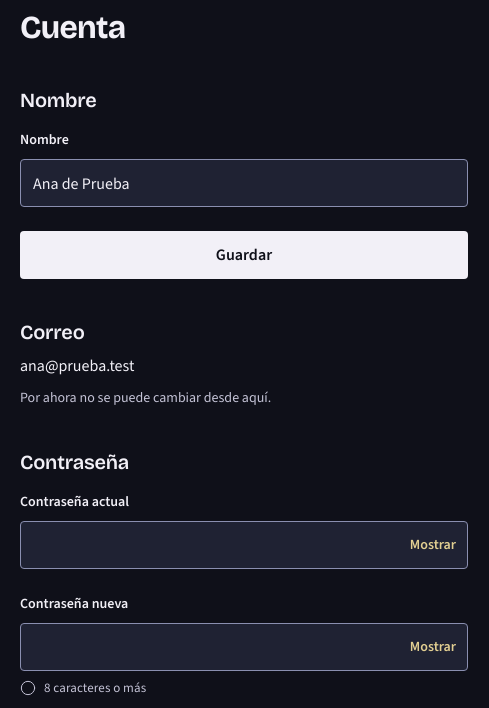
Test: la pantalla de la cuenta (PA-25) › no se supo: lo dice en una alerta y conserva lo escrito
Replace the text in the field labelled "Nombre" with "Beatriz" at coordinates (244, 183), box x1=20 y1=159 x2=468 y2=207
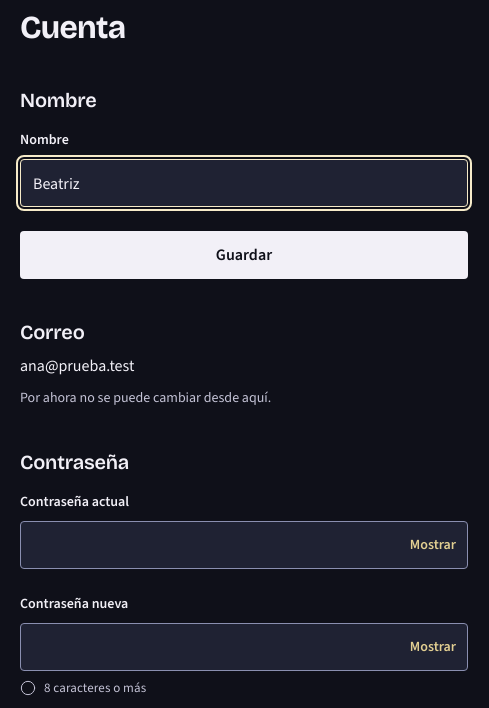
Click the button "Guardar".
click(244, 255)  # box x1=20 y1=231 x2=468 y2=279
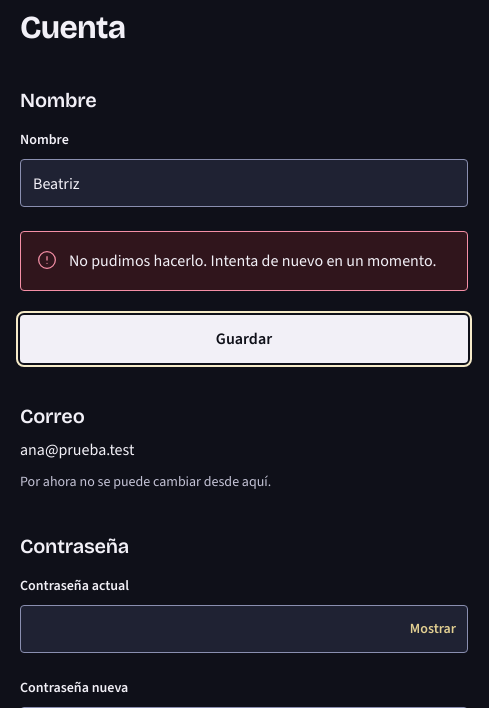
Result: the field labelled "Nombre" holds "Beatriz" at x1=20 y1=159 x2=468 y2=207
Result: the message reads "No pudimos hacerlo. Intenta de nuevo en un momento." at x1=69 y1=250 x2=436 y2=271
